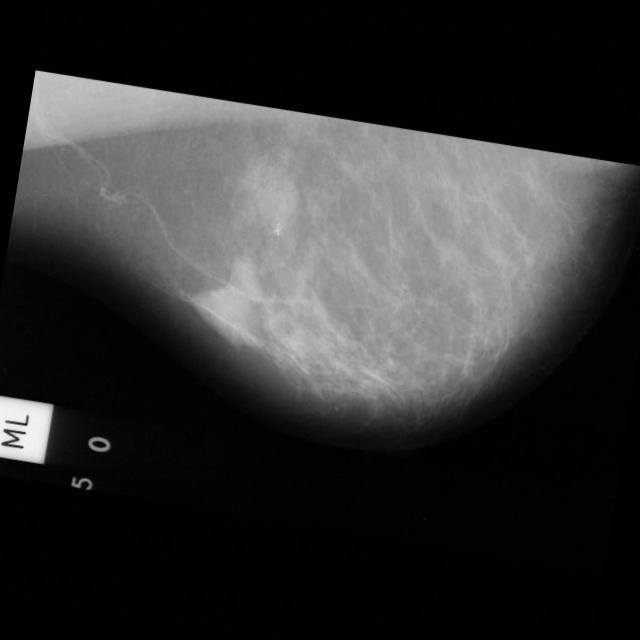CALC: (270, 222, 286, 236)
